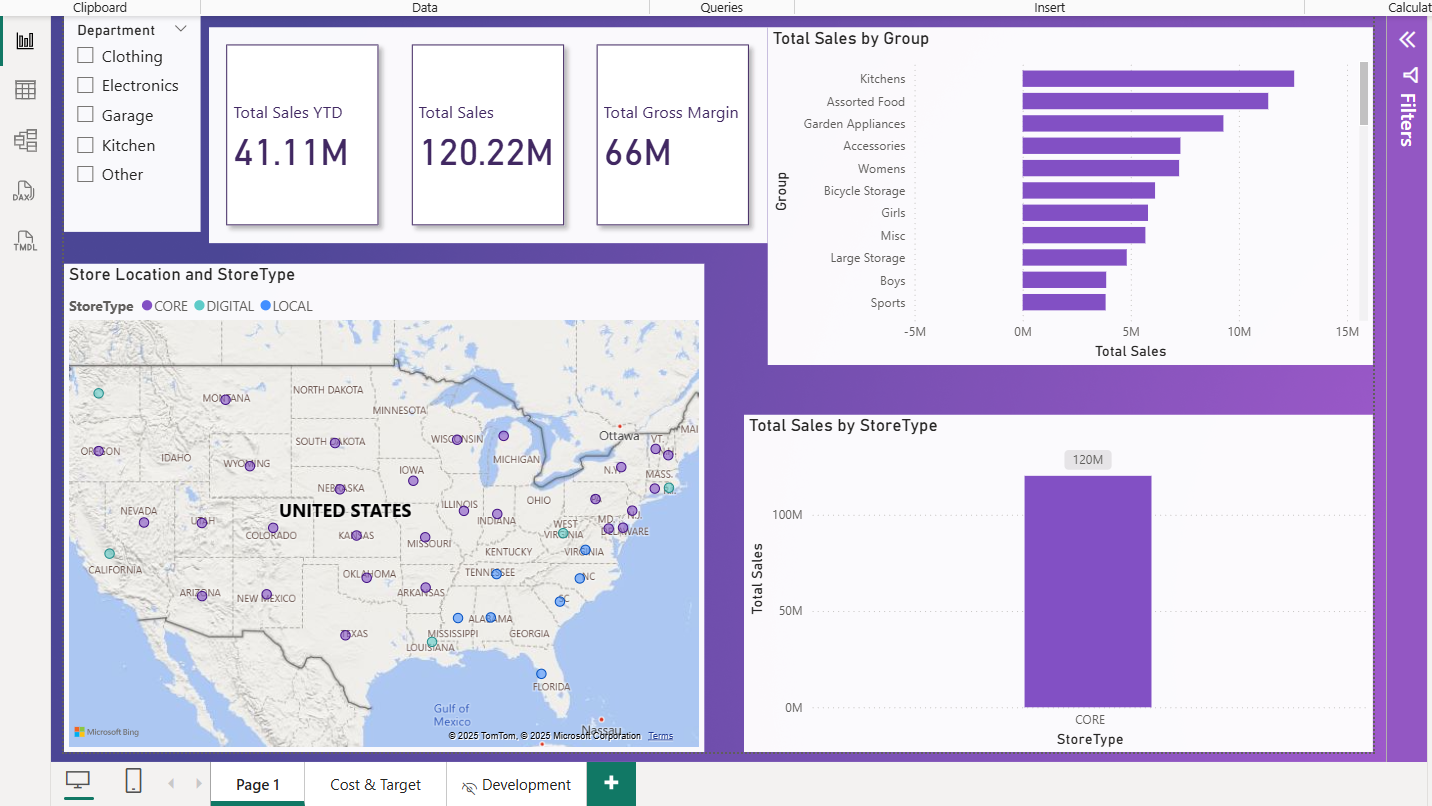

The dashboard page shown, as its layout file describes it:
{"tool":"powerbi","page":{"name":"Page 1","canvas":[1280,720],"ordinal":0},"visuals":[{"type":"clusteredColumnChart","fields":{"Category":["Store Details.StoreType"],"Y":["Retail Sales.Total Sales"]},"box":[665.2,390.1,615.1,330.2],"z":0},{"type":"map","fields":{"Category":["Store Details.Store Location"],"Series":["Store Details.StoreType"]},"box":[0,242.1,626.1,478.1],"z":1000},{"type":"barChart","fields":{"Category":["Categories.Group"],"Y":["Retail Sales.Total Sales"]},"box":[688.5,11,591.9,330.2],"z":2000},{"type":"cardVisual","fields":{"Data":["Categories.Total Sales YTD","Retail Sales.Total Sales","Retail Sales.Total Gross Margin"]},"box":[141.8,11,546.6,211.6],"z":3000},{"type":"slicer","fields":{"Values":["Categories.Department"]},"box":[0,0,133.3,211.6],"z":4000}]}

Visuals, with their boxes on the page's 1280x720 design canvas (x1, y1, x2, y2). These are canvas units, not pixel positions in the 1432x806 screenshot, which may show the page scaled, cropped or inside an application window:
clusteredColumnChart - Store Details.StoreType x Retail Sales.Total Sales: (665,390,1280,720)
map - Store Details.Store Location x Store Details.StoreType: (0,242,626,720)
barChart - Categories.Group x Retail Sales.Total Sales: (688,11,1280,341)
cardVisual - Categories.Total Sales YTD x Retail Sales.Total Sales: (142,11,688,223)
slicer - Categories.Department: (0,0,133,212)
